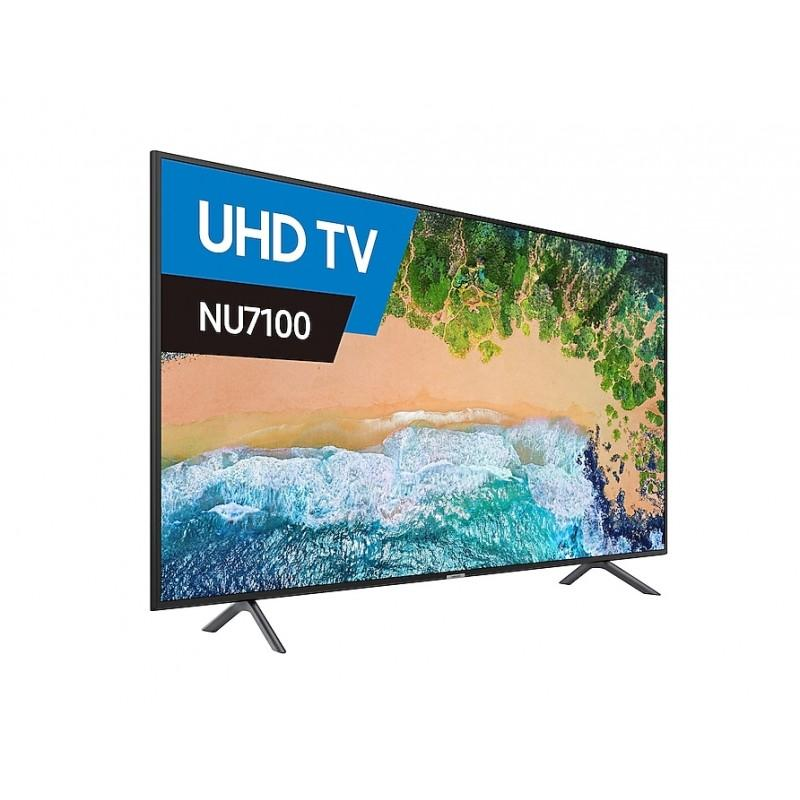TV: (136, 139, 670, 651)
